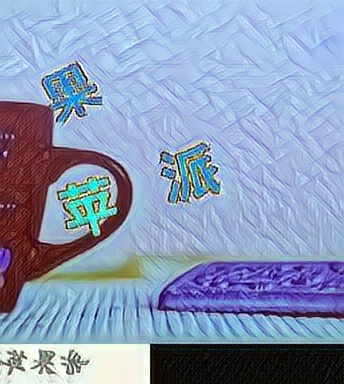B9FB: (40, 60, 103, 126)
C5C9: (159, 139, 222, 205)
C6BB: (57, 171, 120, 237)
